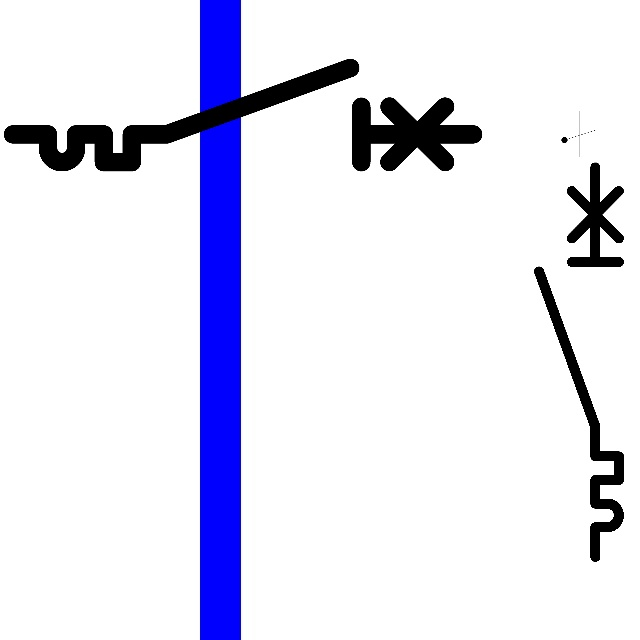interruptor_termomagnetico: (1, 56, 485, 174), (529, 157, 629, 567)
